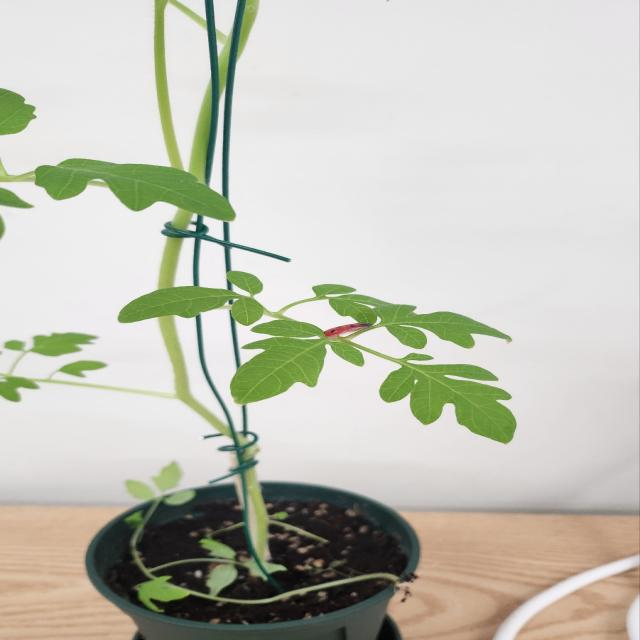bug: (316, 314, 392, 346)
